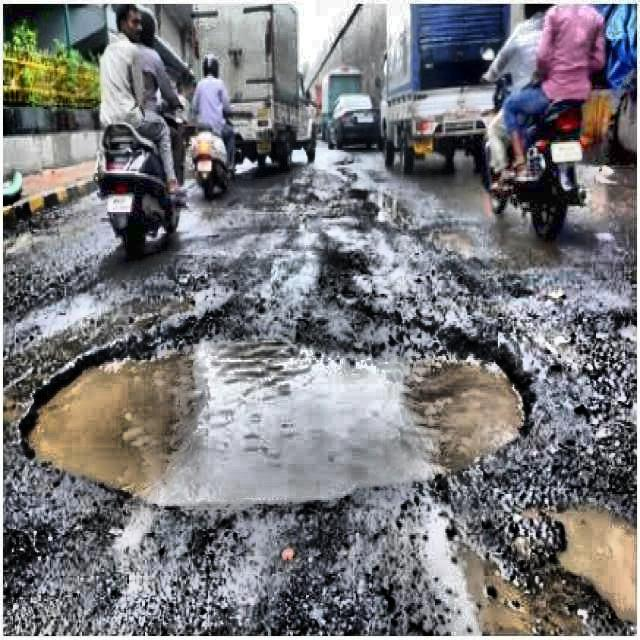buraco: (18, 328, 534, 510), (549, 500, 639, 630)
